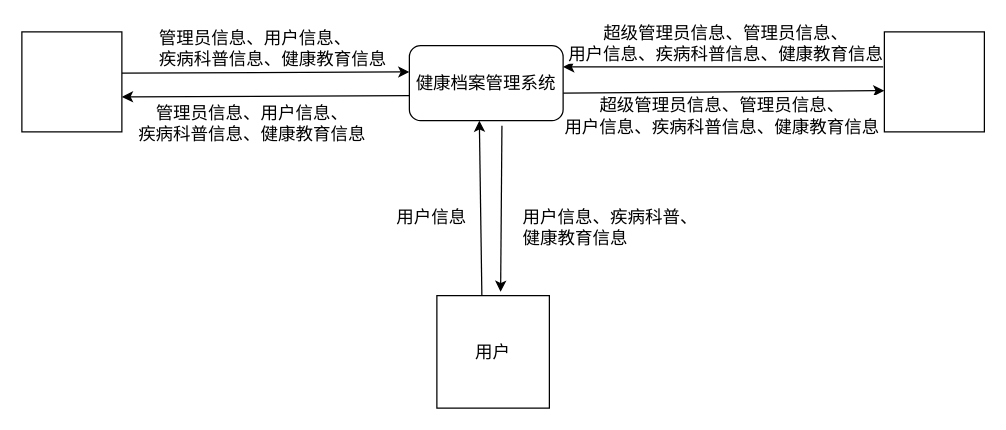
This 1006x430 diagram has some shape labels left out. Each missing label, with the box of its shape:
管理员: (21, 31, 122, 132)
超级管理员: (883, 31, 984, 132)
